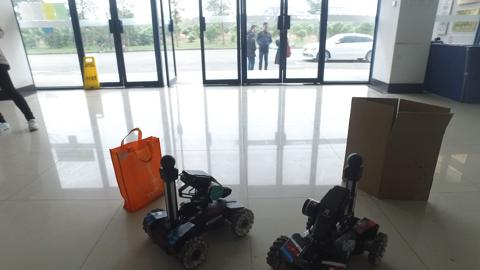bag: (106, 129, 162, 203)
box: (345, 88, 442, 190)
chariot: (268, 154, 391, 268), (153, 154, 255, 261)
